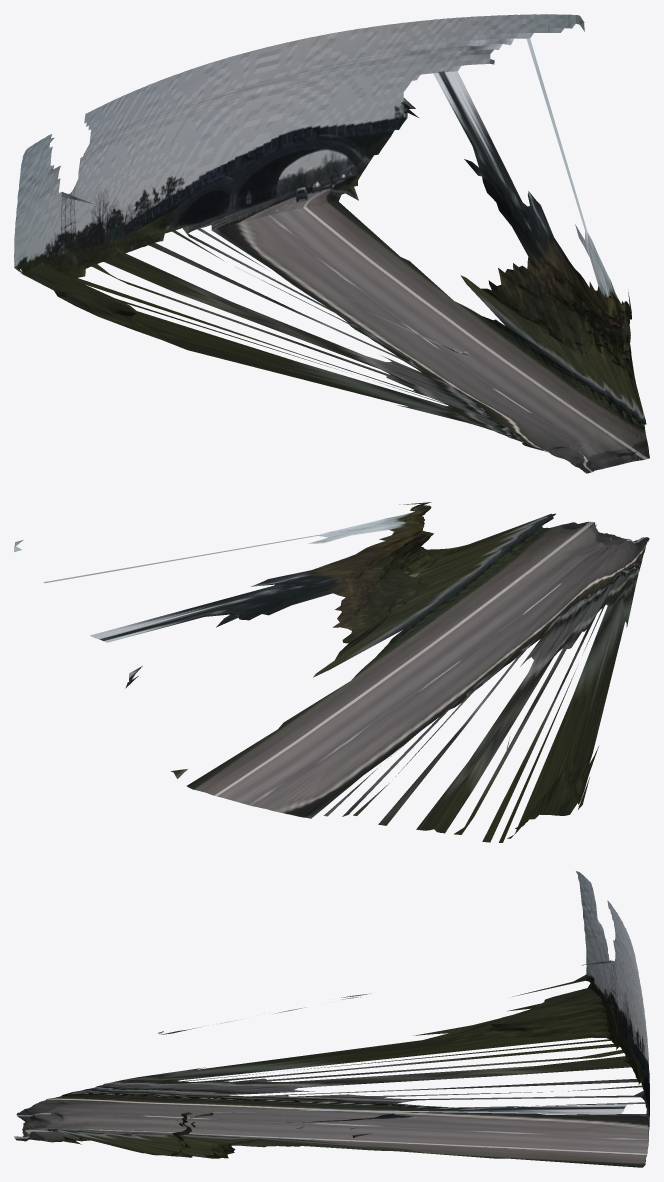
3 renders of one model, top to bottom at view 1: azimuth 30°, elevation 25°; view 2: azimuth 150°, elevation 25°; view 3: azimuth 270°, elevation 25°, orthographic. The views are drawn at different scales.
Visible parts, largest first — view 1: defaultobject; view 2: defaultobject; view 3: defaultobject.
Part boxes in pixels (box(x1,y1,x2,y2)): defaultobject: box(14, 14, 649, 473); defaultobject: box(14, 502, 649, 842); defaultobject: box(14, 871, 649, 1167).
Bounding box in the file's own units: 40.75 × 12.24 × 44.87.
1 material, 1 textured.
